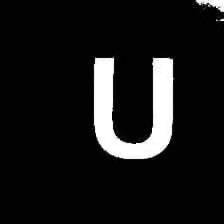LTR_U: (83, 45, 184, 165)
